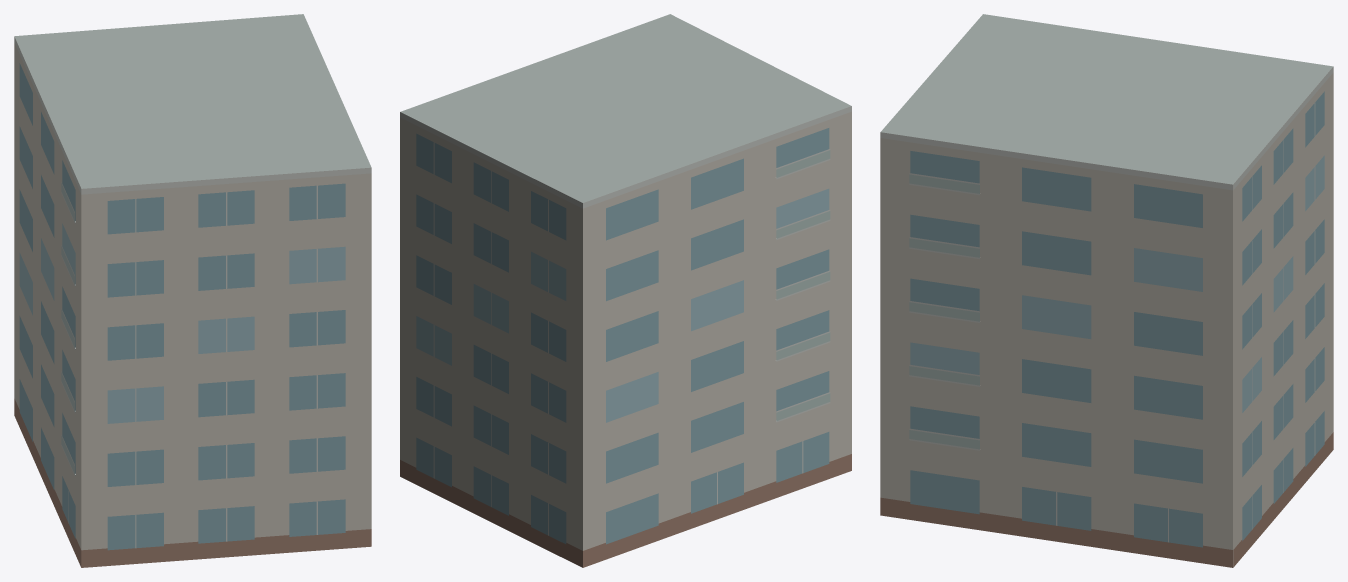
File: survey-upis-32890074.glb
3 views of the same model, side by side, from view 1: azimuth 30°, elevation 25°; view 2: azimuth 150°, elevation 25°; view 3: azimuth 270°, elevation 25° (orthographic). The views are drawn at different scales.
Visible parts, largest first — view 1: survey-upis-32890074.tmp; view 2: survey-upis-32890074.tmp; view 3: survey-upis-32890074.tmp.
Part boxes in pixels (<box>): survey-upis-32890074.tmp: <box>14,14,371,567</box>; survey-upis-32890074.tmp: <box>400,14,851,567</box>; survey-upis-32890074.tmp: <box>880,14,1333,567</box>.
Size of the model in its own units: 15.38 by 16.1 by 17.26.
